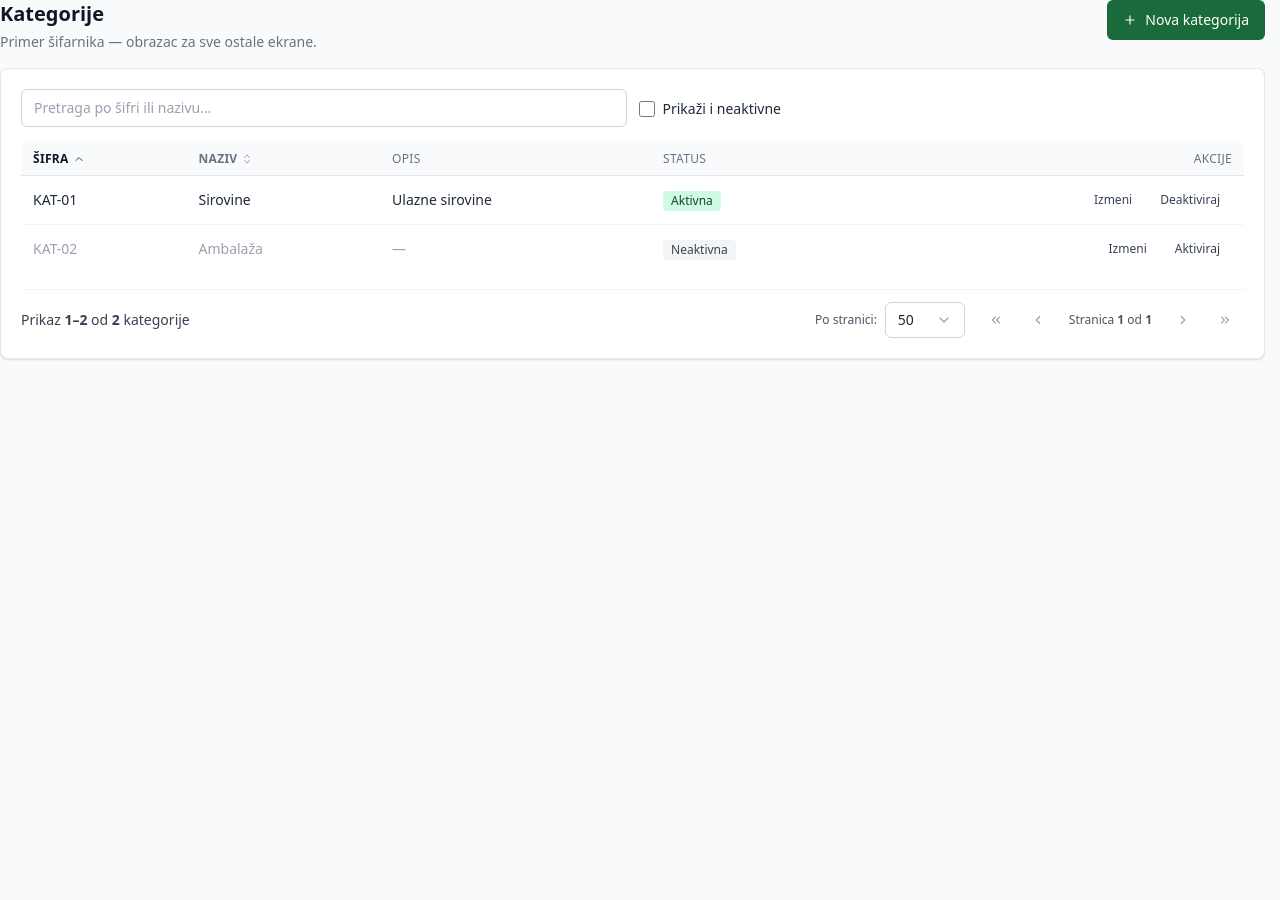
it: KategorijePage — prava i akcije › Admin: kreiranje šalje POST, zatvara formu i prikazuje toast
Expected: the text "Sirovine" is shown, x1=186 y1=176 x2=380 y2=224
Step 1. Click the button "Nova kategorija" → (1186, 20), box x1=1107 y1=0 x2=1265 y2=40
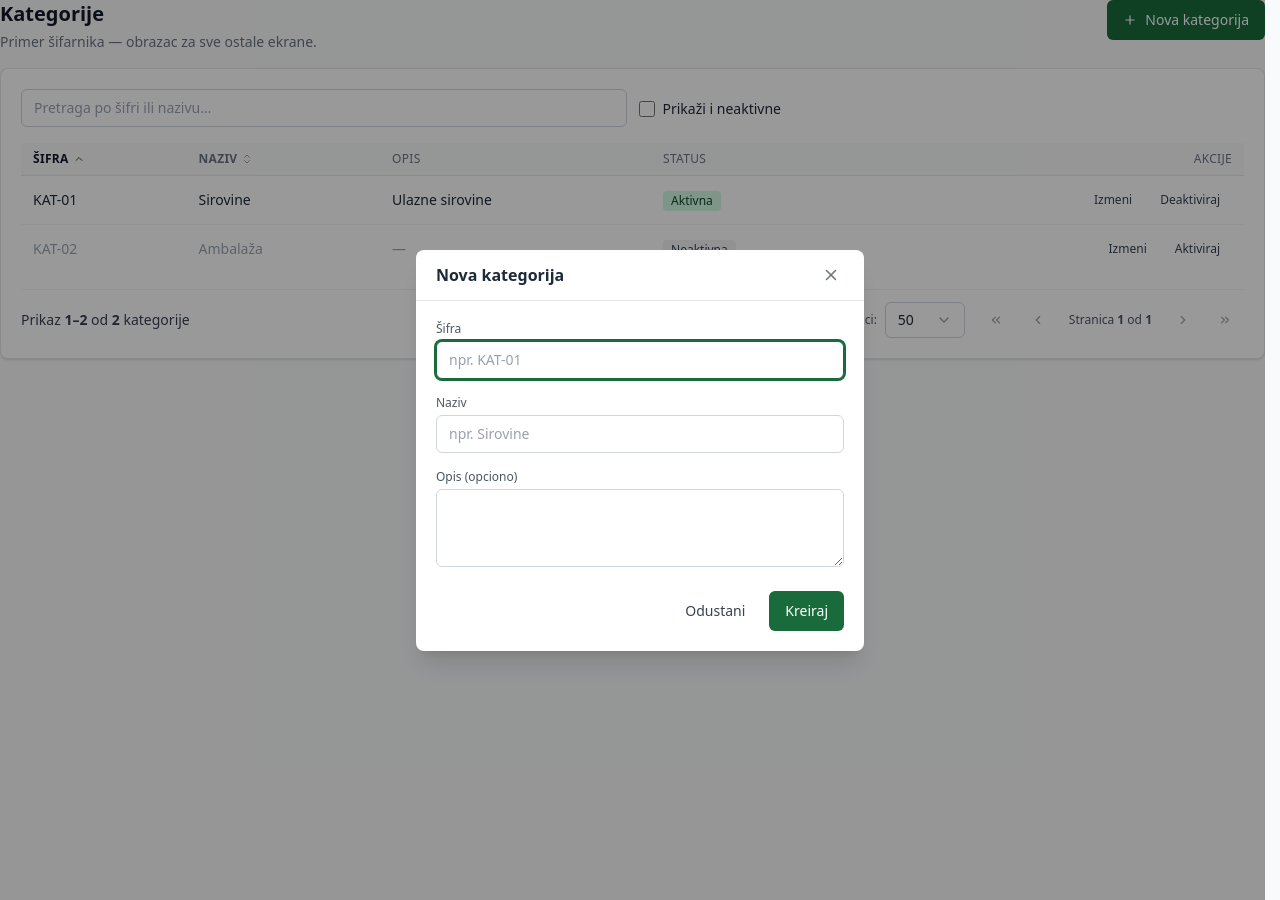
Step 2. Type "KAT-03" into the field labelled "Šifra" → (640, 360), box x1=436 y1=340 x2=844 y2=378
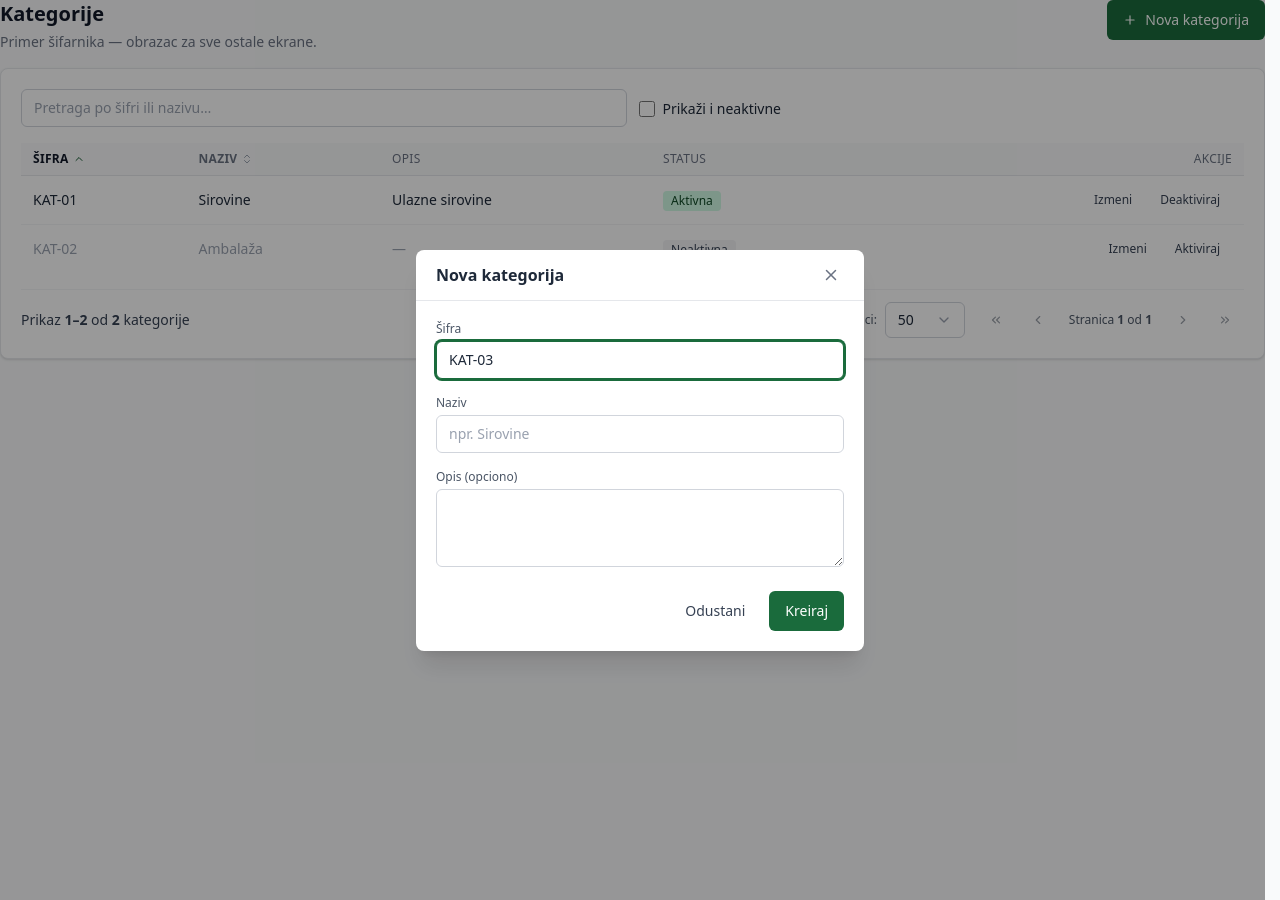
Step 3. Type "Gotovi proizvodi" into the field labelled "Naziv" → (640, 434), box x1=436 y1=414 x2=844 y2=452
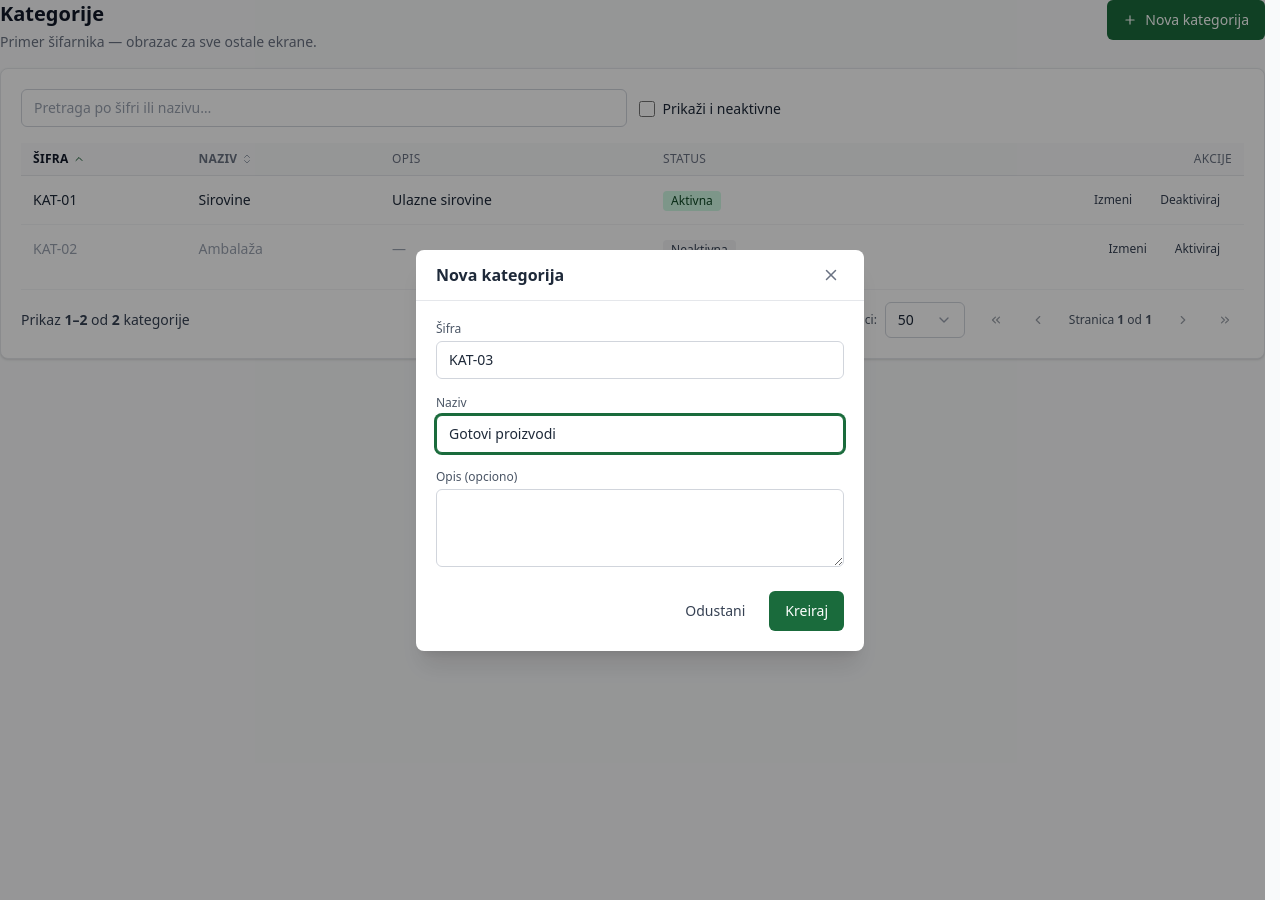
Step 4. Click the button "Kreiraj" → (807, 610), box x1=769 y1=590 x2=844 y2=630
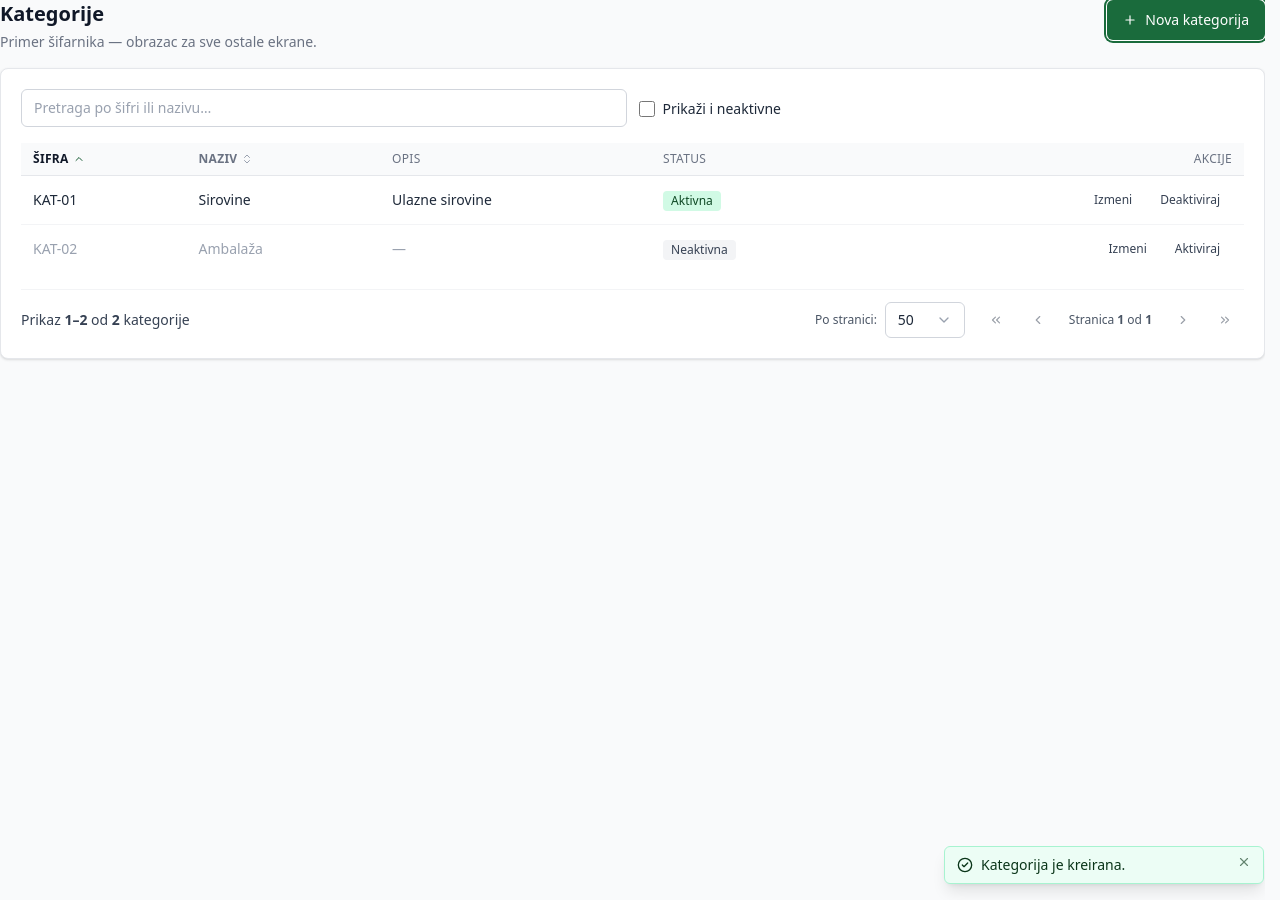
Result: the text "Kategorija je kreirana." is shown at x1=981 y1=855 x2=1125 y2=874
